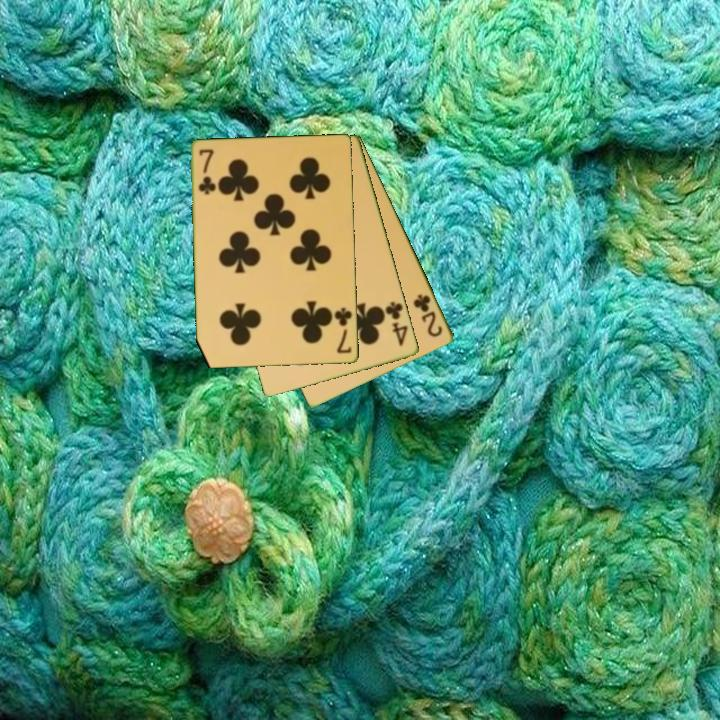2c: (410, 290, 446, 340)
4c: (382, 298, 411, 349)
7c: (331, 305, 355, 356), (196, 146, 217, 198)
